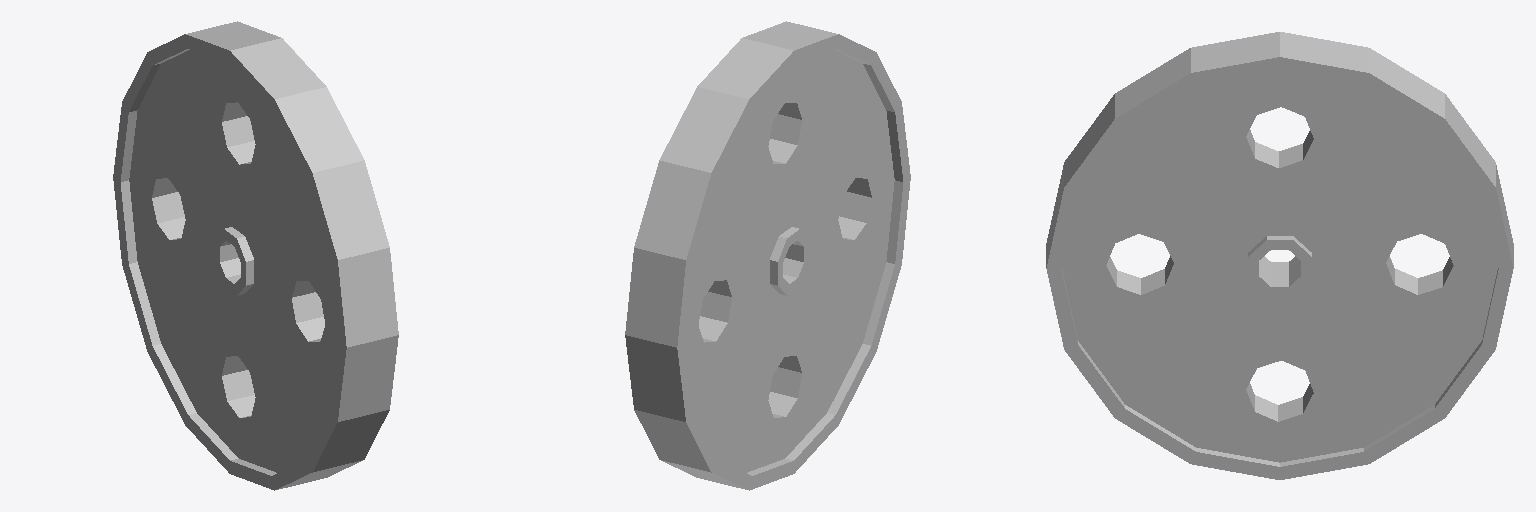
File: wheel.obj
3 views of the same model, side by side, from view 1: azimuth 30°, elevation 25°; view 2: azimuth 150°, elevation 25°; view 3: azimuth 270°, elevation 25° (orthographic).
Visible parts, largest first — view 1: wheel_lo_Circle.002; view 2: wheel_lo_Circle.002; view 3: wheel_lo_Circle.002.
Part boxes in pixels (x1,y1,x2,y2): wheel_lo_Circle.002: (113, 21, 398, 490); wheel_lo_Circle.002: (625, 21, 910, 490); wheel_lo_Circle.002: (1046, 32, 1513, 479).
Bounding box in the file's own units: 0.2671 × 2.07 × 2.07.